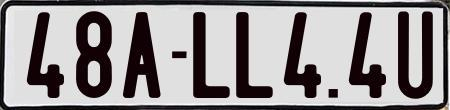4: (284, 9, 326, 101), (348, 10, 388, 98), (25, 11, 64, 100)
8: (75, 8, 111, 99)
A: (122, 9, 160, 98)
L: (236, 11, 278, 100), (190, 10, 229, 100)
U: (396, 8, 435, 99)
